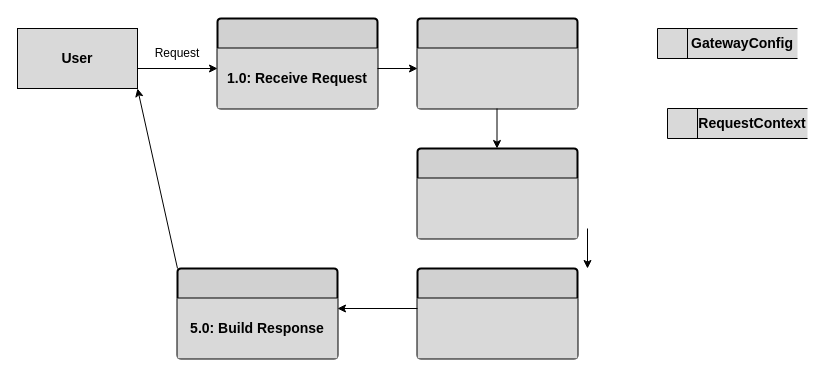
The diagram is 825 pixels wide and 376 high, and some of its shapes have lost their labels. Here are the shapes that lost their labels. From the top down, the centre of each, then its label:
point (497, 78): 2.0: Parse Request
point (497, 208): 3.0: Authentication Check
point (497, 328): 4.0: Forward to Router
